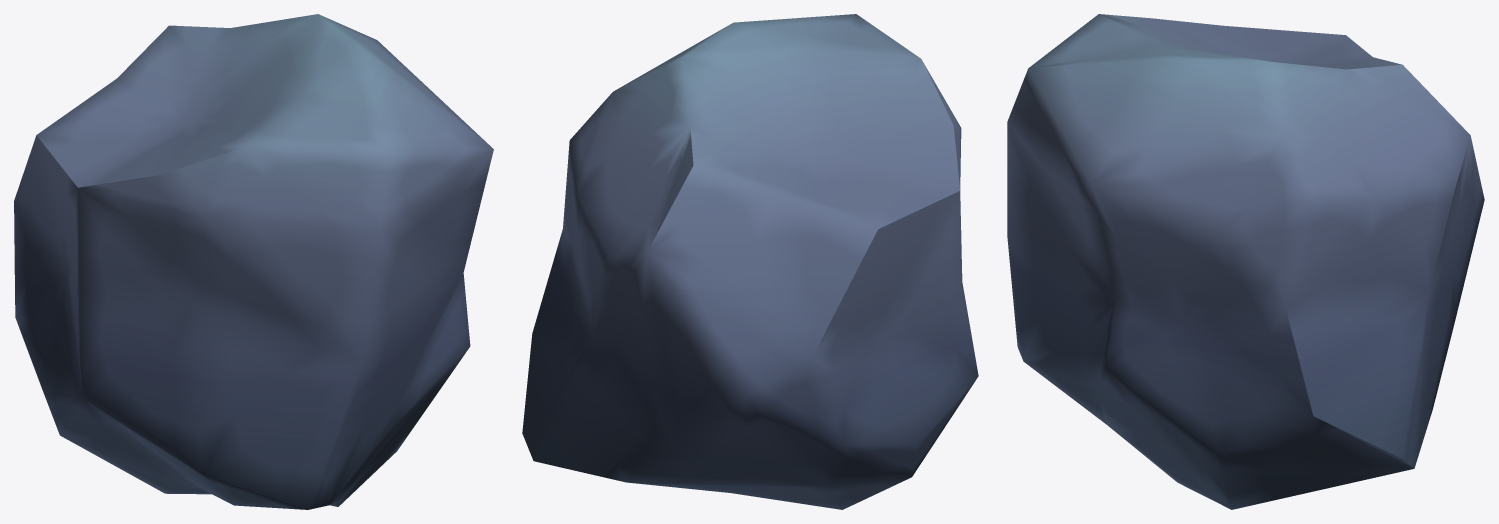
Rendered from SM_Hill_Rock_06.fbx.
3 views of the same model, side by side, from view 1: azimuth 30°, elevation 25°; view 2: azimuth 150°, elevation 25°; view 3: azimuth 270°, elevation 25° (orthographic). The views are drawn at different scales.
Visible parts, largest first — view 1: Stone1.004; view 2: Stone1.004; view 3: Stone1.004.
Part boxes in pixels (bbox=[...]): Stone1.004: bbox=[14, 14, 493, 509]; Stone1.004: bbox=[522, 14, 978, 509]; Stone1.004: bbox=[1007, 14, 1484, 509].
Size of the model in its own units: 694 by 739 by 735.
Materials: 1 (1 with a texture image).
